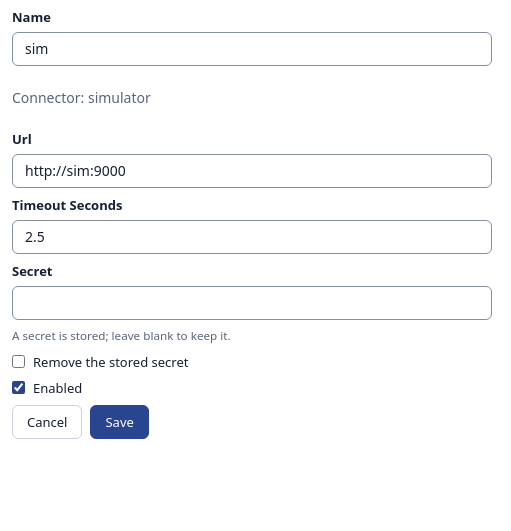
Test: SourceForm, editing a source › shows the sentence of a 409 (the source was changed since the form was opened) in the error line and keeps the form open with what was typed
This screenshot has width=511, height=531.
Replace the text in the number field labelled "Timeout Seconds" with "9" at [252, 237], box [12,220,492,254]
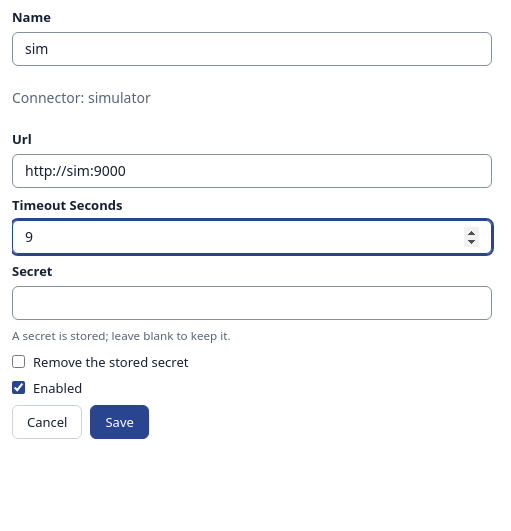
Click the button "Save" at [120, 422], box [90,405,149,439]
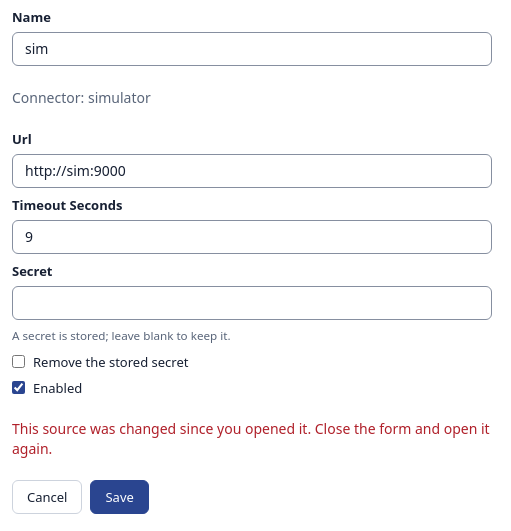
Expected: the button "Save" is enabled, [90,480,149,514]
Expected: the message reads "This source was changed since you opened it. Close the form and open it again.", [12,419,490,458]
